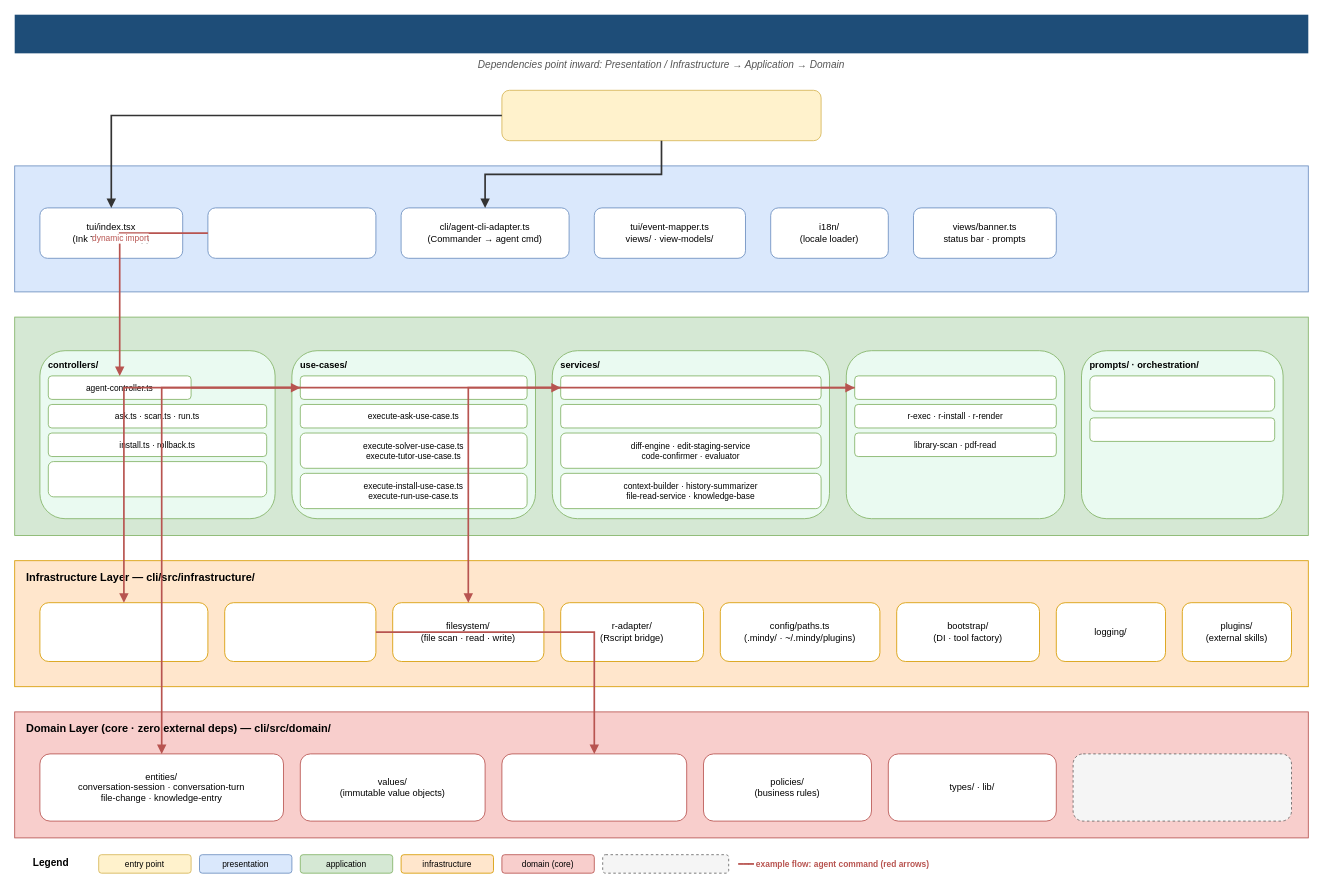
The diagram is 1323 pixels wide and 888 high, and some of its shapes have lost their labels. The box of each missing label's shape, as (x1, y1, x2, y2) in pixels:
agent-service · react-loop: (560, 375, 821, 399)
api/llm-controller.ts (OpenAI · Anthropic · Azure Gemini · Ollama): (39, 602, 208, 662)
Application Layer — cli/src/application/: (14, 316, 1308, 536)
Entry Point mindy-cli → cli/src/index.ts (Commander program · launchTUI): (501, 89, 821, 141)
execute-instruction-use-case.ts: (299, 375, 527, 399)
file-scan · file-read · file-edit: (854, 375, 1056, 399)
intent-router · mode-manager: (560, 404, 821, 428)
knowledge.ts · plugins.ts library.ts · context.ts: (47, 461, 267, 497)
MindyCLI — Layered (Clean) Architecture: (14, 14, 1308, 53)
orchestrator (multi-step): (1089, 417, 1275, 441)
persistence/ (sessions · knowledge): (224, 602, 376, 662)
Presentation Layer — cli/src/presentation/: (14, 165, 1308, 292)
repositories/ (persistence interfaces): (501, 753, 687, 821)
shared (cross-cutting): (602, 854, 729, 873)
shared/ (cross-cutting types · i18n · utils): (1072, 753, 1292, 821)
system-prompt builders section composers: (1089, 375, 1275, 411)
tools/: (845, 350, 1065, 519)
tui/App.tsx (dynamic import: agent-controller + factory): (207, 207, 376, 258)
